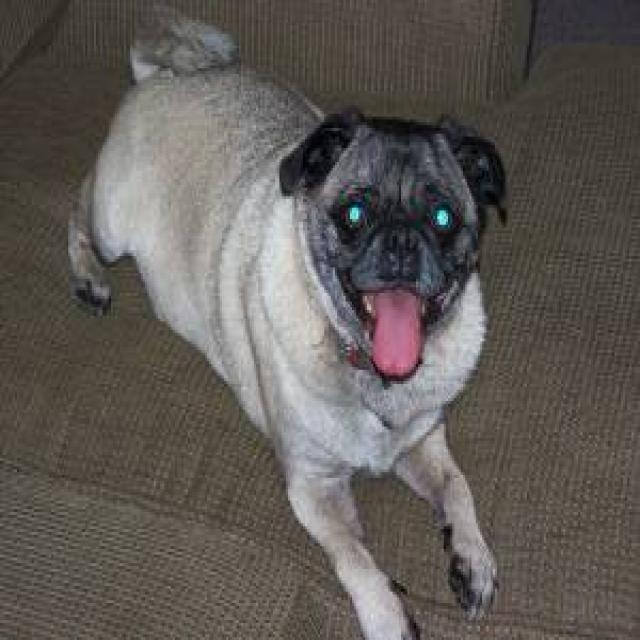dog-pug: (60, 6, 514, 634)
